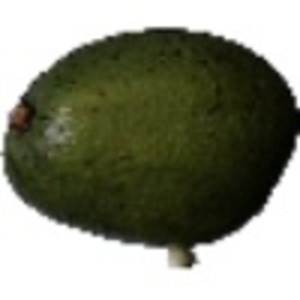abacate: (2, 23, 299, 244)
